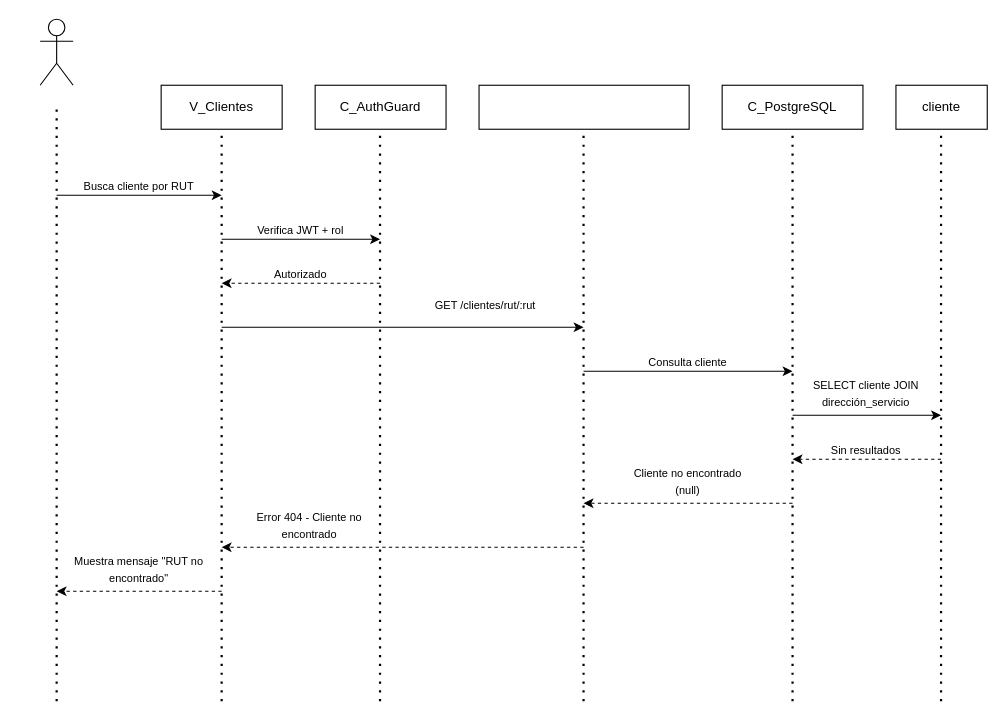
This 1007x723 diagram has some shape labels left out. The box of each missing label's shape, as (x1, y1, x2, y2) in pixels:
C_ClienteController: (478, 84, 689, 129)
Jefe Técnico: (39, 18, 73, 85)
